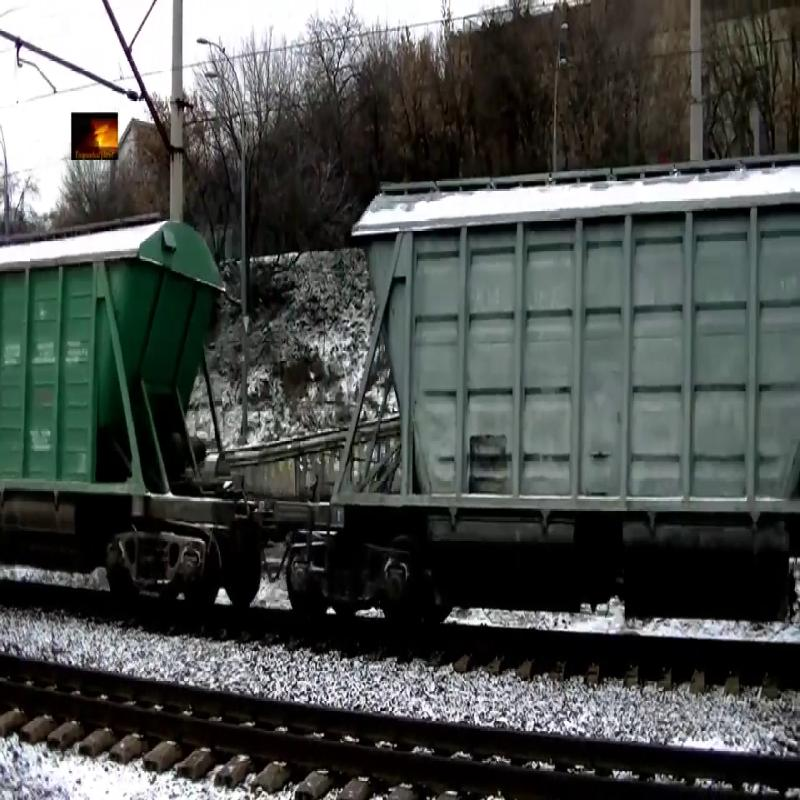train: (326, 148, 800, 571), (2, 213, 233, 555)
